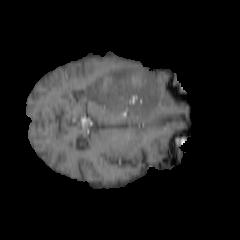glioma: (80, 64, 162, 120)
